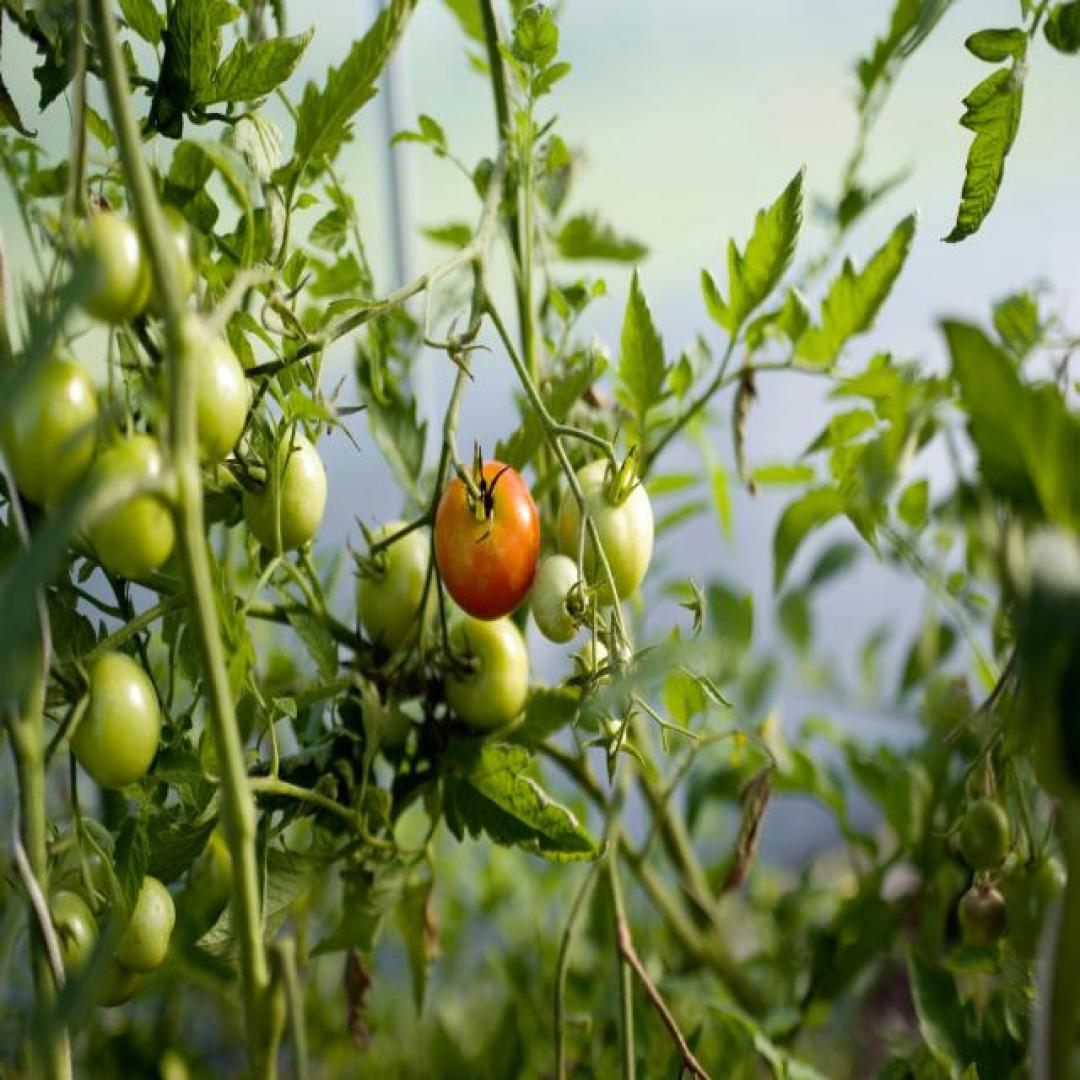matang: (435, 459, 540, 623)
mentah: (556, 459, 656, 611), (66, 650, 158, 786), (354, 520, 437, 650), (242, 430, 328, 547), (531, 555, 589, 643)
